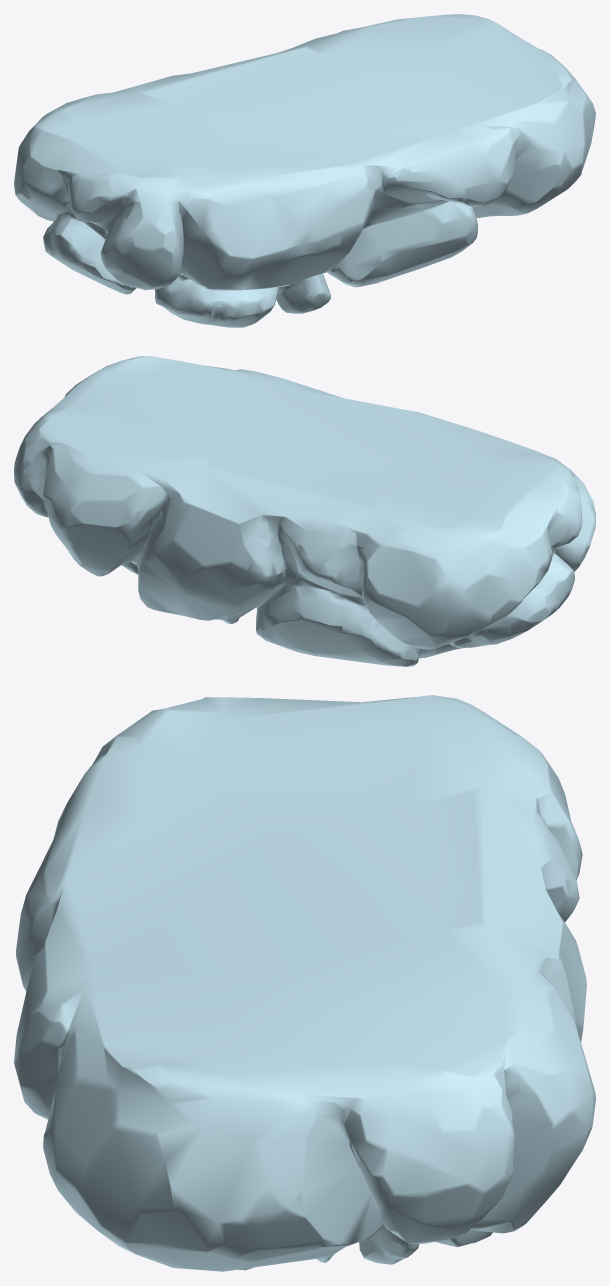
The model's file is island_2_LOD2.fbx.
The picture shows the model from 3 angles, top to bottom: view 1: azimuth 30°, elevation 25°; view 2: azimuth 150°, elevation 25°; view 3: azimuth 270°, elevation 25°; orthographic projection. The views are drawn at different scales.
Parts seen in each view (by area): view 1: island_2_LOD2; view 2: island_2_LOD2; view 3: island_2_LOD2.
Boxes of the visible parts, left/top/right/bottom form: island_2_LOD2: left=14, top=14, right=595, bottom=327; island_2_LOD2: left=14, top=356, right=595, bottom=666; island_2_LOD2: left=14, top=695, right=595, bottom=1271.
Size of the model in its own units: 2610 by 952 by 1455.
